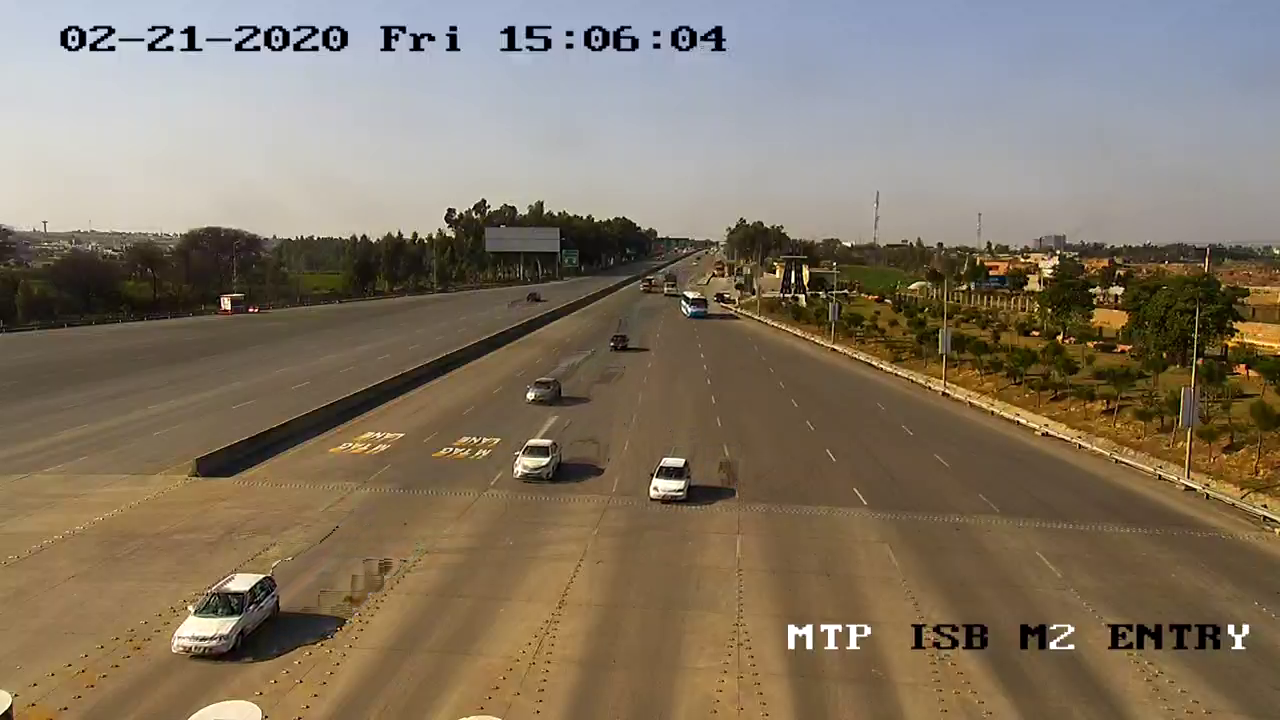f1: (163, 560, 289, 664), (500, 434, 574, 485), (635, 453, 699, 506)
